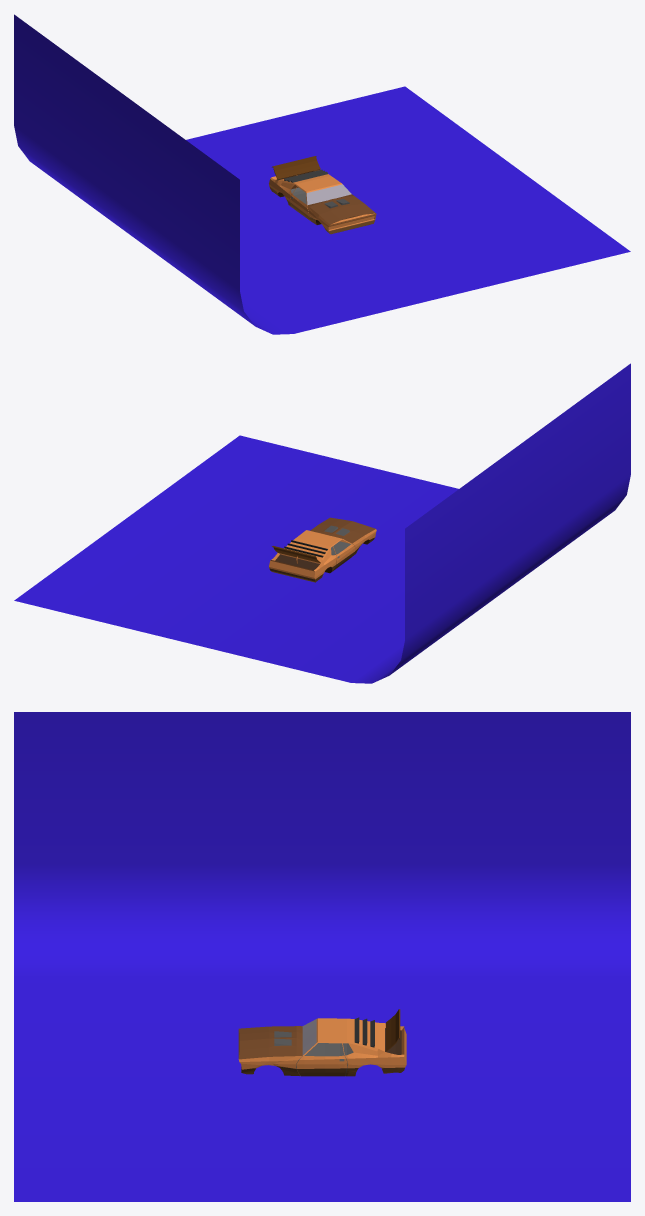
File: Mashina 2 .fbx
3 views of the same model, one above another, from view 1: azimuth 30°, elevation 25°; view 2: azimuth 150°, elevation 25°; view 3: azimuth 270°, elevation 25° (orthographic). The views are drawn at different scales.
Parts seen in each view (by area): view 1: Plane.003, Plane.001, Plane.002; view 2: Plane.003, Plane.001; view 3: Plane.003, Plane.001.
Part boxes in pixels (<box>): Plane.003: <box>14,14,630,334</box>; Plane.001: <box>269,169,376,234</box>; Plane.002: <box>271,156,320,179</box>; Plane.003: <box>14,363,630,683</box>; Plane.001: <box>269,517,376,582</box>; Plane.003: <box>14,712,630,1201</box>; Plane.001: <box>238,1017,406,1076</box>.
Size of the model in its own units: 1392 by 570 by 1392.
